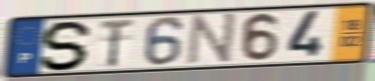4: (285, 9, 329, 62)
6: (143, 15, 186, 68), (240, 11, 281, 64)
N: (184, 11, 239, 67)
S: (39, 19, 97, 72)
T: (98, 17, 137, 70)
